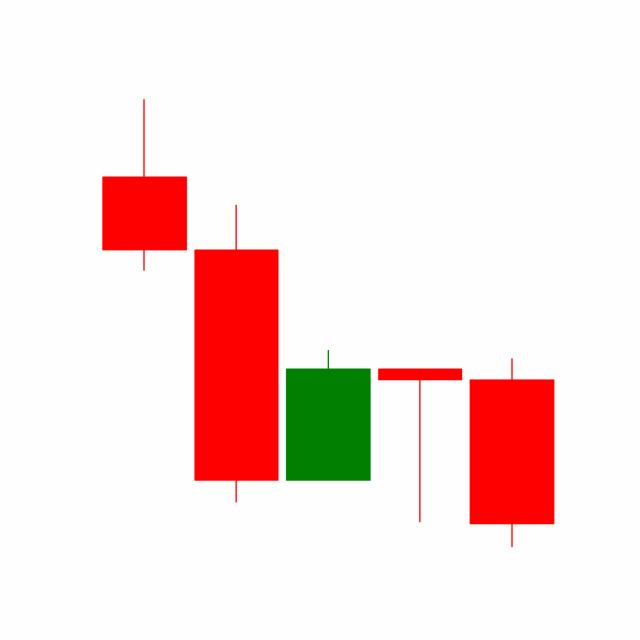Dragonfly Doji: (373, 366, 467, 524)
